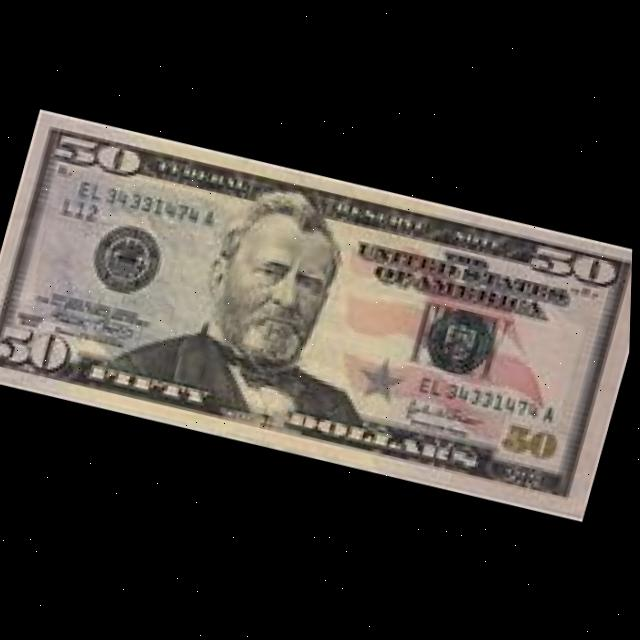banknote: (0, 99, 638, 529)
